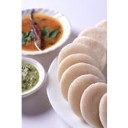idly: (61, 62, 103, 110), (71, 74, 103, 126), (60, 44, 103, 80), (61, 54, 97, 94), (80, 83, 107, 128), (72, 38, 106, 62), (100, 94, 107, 127)
